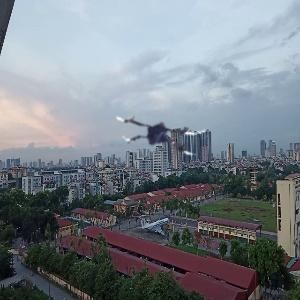drone: (118, 81, 210, 173)
